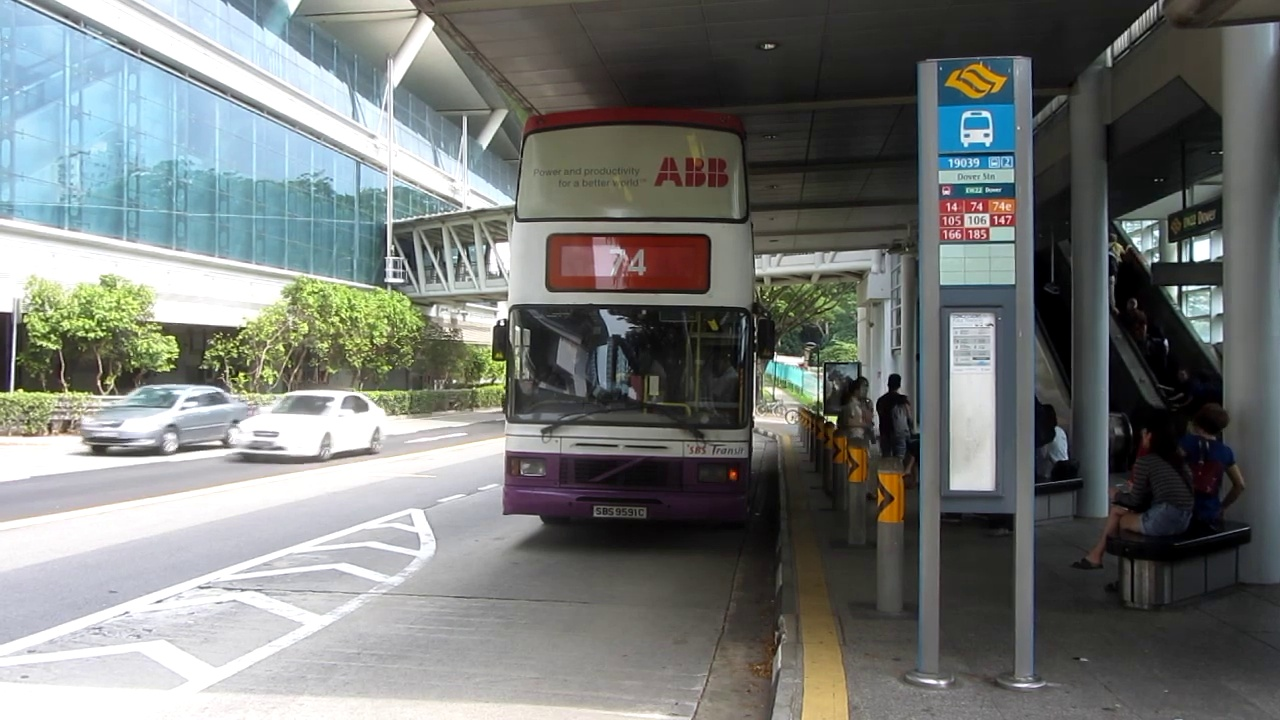bus panel: (544, 231, 713, 297)
